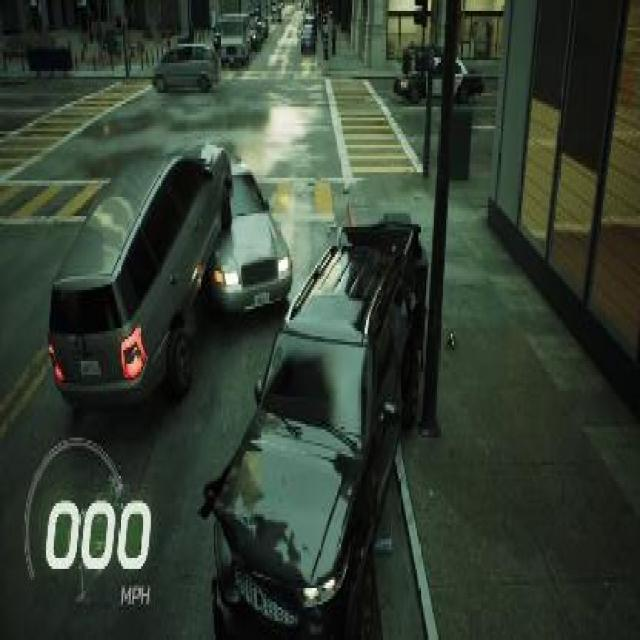accident: (46, 120, 294, 424)
